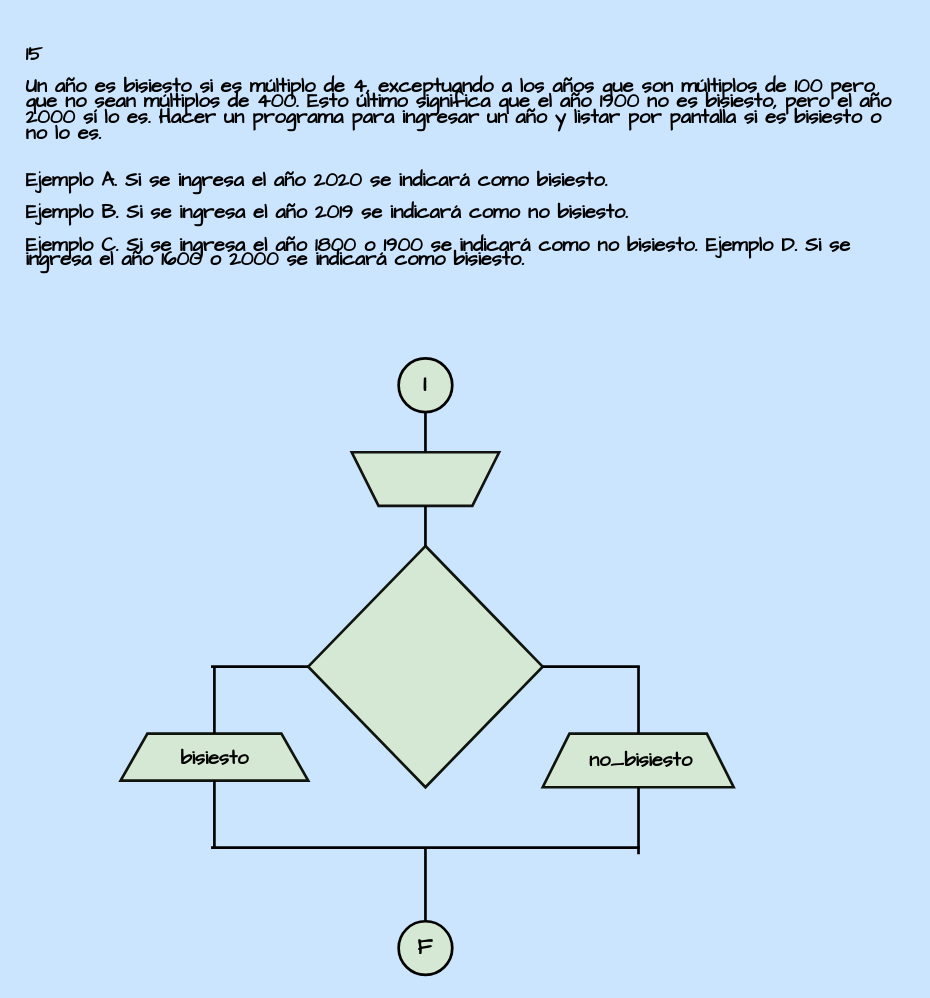
Image size: 930x998. Some labels were removed from this diagram. The shapes that lost their labels are listed below. From the top down, each one's box as (x1, y1, x2, y2) in pixels, then its label:
(350, 450, 500, 507): año
(306, 544, 543, 788): año % 4 == 0 && (año % 100 != 0 || año % 400 == 0)
